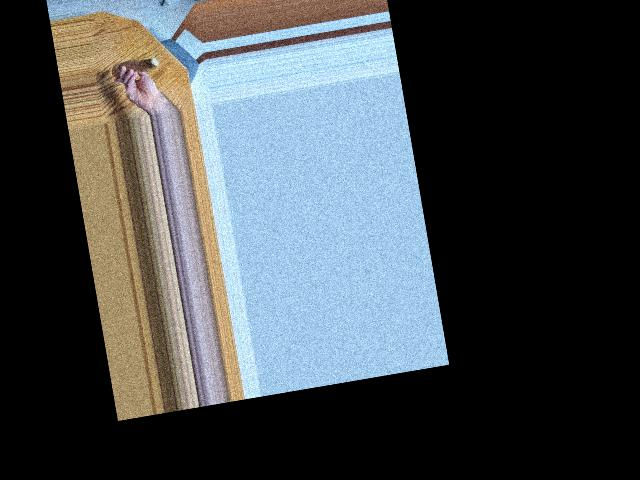sweet_potato: (109, 55, 161, 82)
